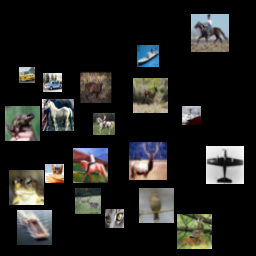airplane: (143, 12, 175, 44), (8, 158, 24, 174)
automobile: (97, 143, 126, 172)
bird: (37, 186, 75, 224), (7, 2, 36, 31), (114, 85, 143, 114), (135, 123, 164, 152), (198, 118, 220, 140), (64, 143, 83, 162)
cat: (207, 141, 229, 163), (11, 203, 27, 219)
dog: (66, 17, 92, 43)
frog: (95, 28, 127, 60), (191, 53, 217, 79), (67, 100, 86, 119)
ship: (187, 88, 209, 110)
